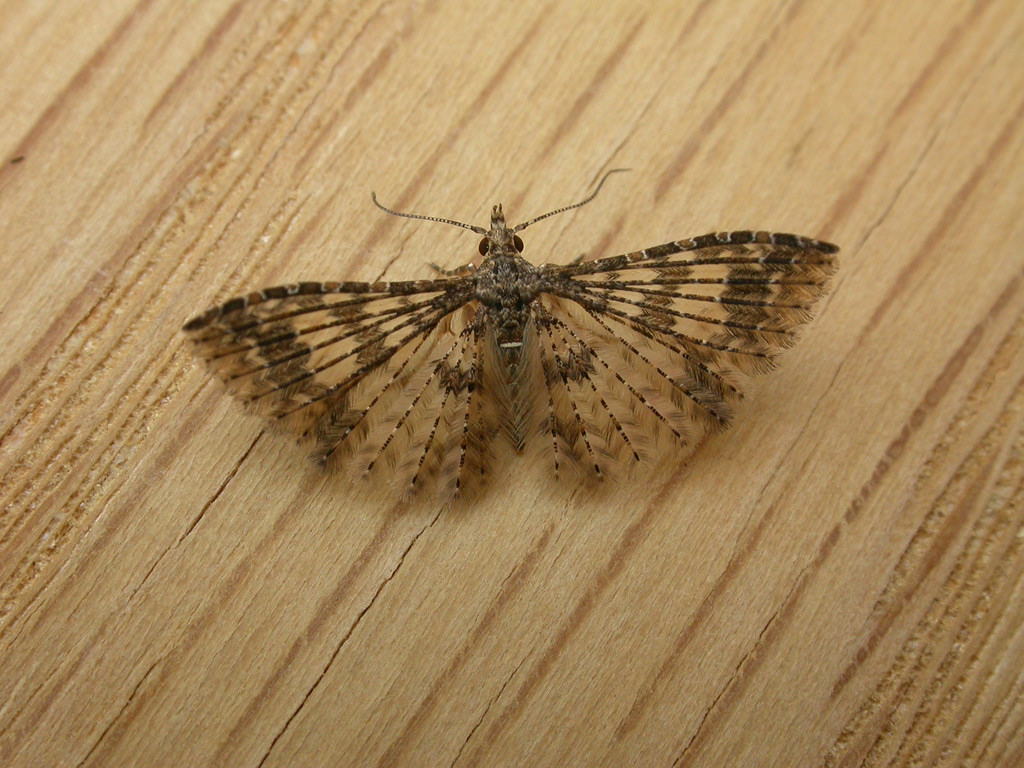Alucitidae: (176, 160, 845, 498)
moth: (178, 162, 847, 500)
